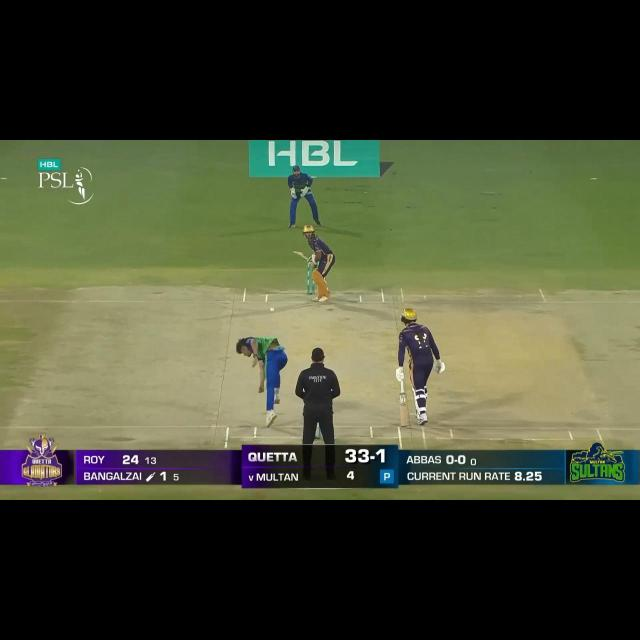bat: (398, 392, 409, 427), (290, 248, 309, 260)
toe: (396, 420, 410, 428), (291, 250, 300, 256)
